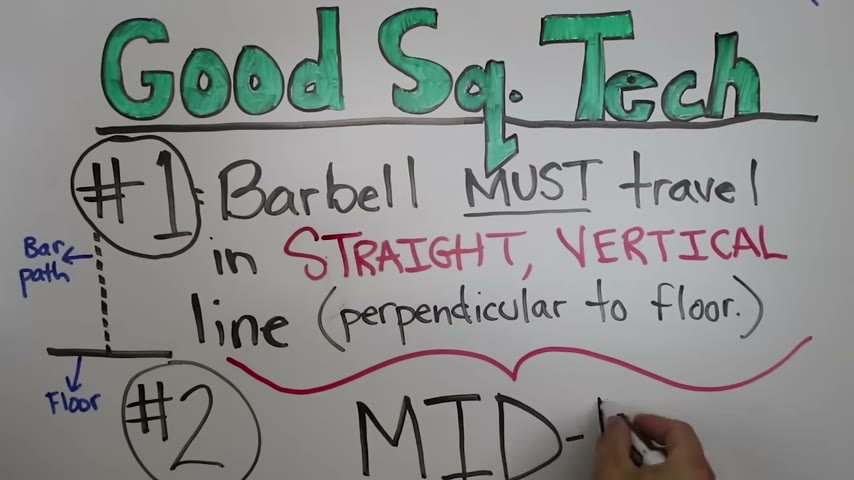barbell_plate_side: (63, 130, 135, 270), (115, 359, 185, 480)
